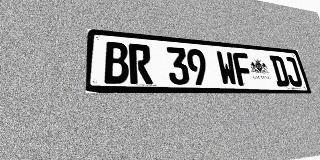3: (166, 47, 190, 85)
9: (186, 48, 209, 85)
B: (104, 41, 129, 84)
D: (269, 55, 291, 87)
F: (232, 52, 254, 86)
J: (282, 56, 303, 87)
R: (128, 43, 153, 84)
W: (215, 51, 238, 86)
